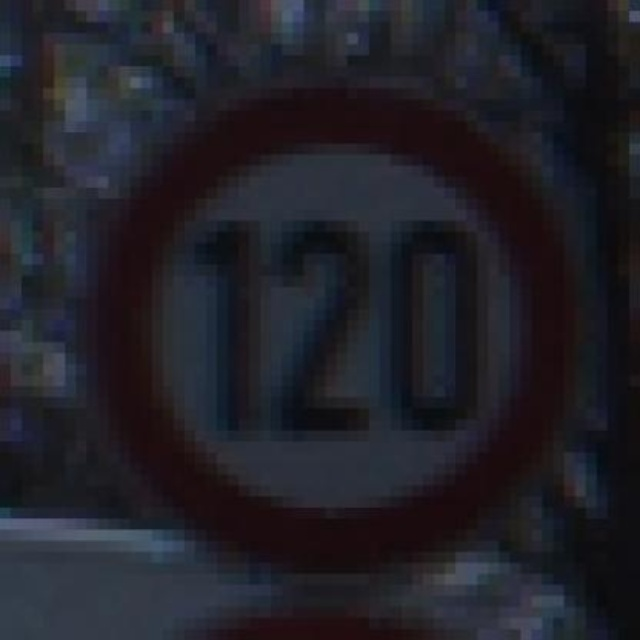Tốc độ tối đa cho phép 120km/h: (100, 93, 569, 578)
